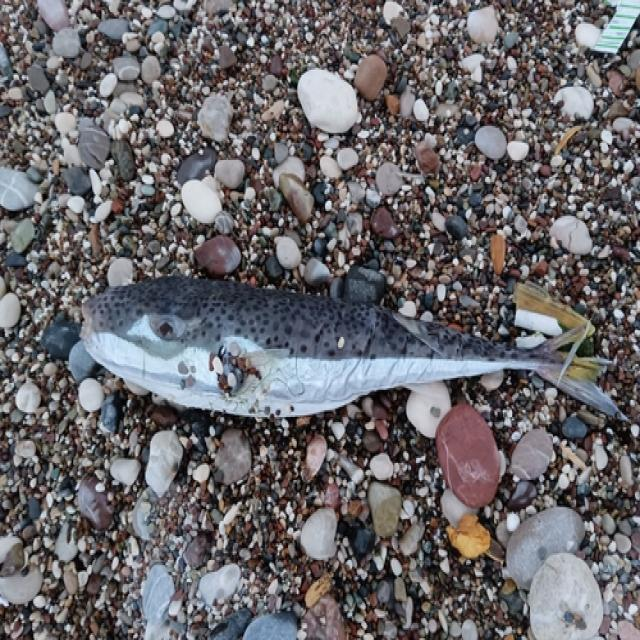Balik: (82, 278, 616, 417)
